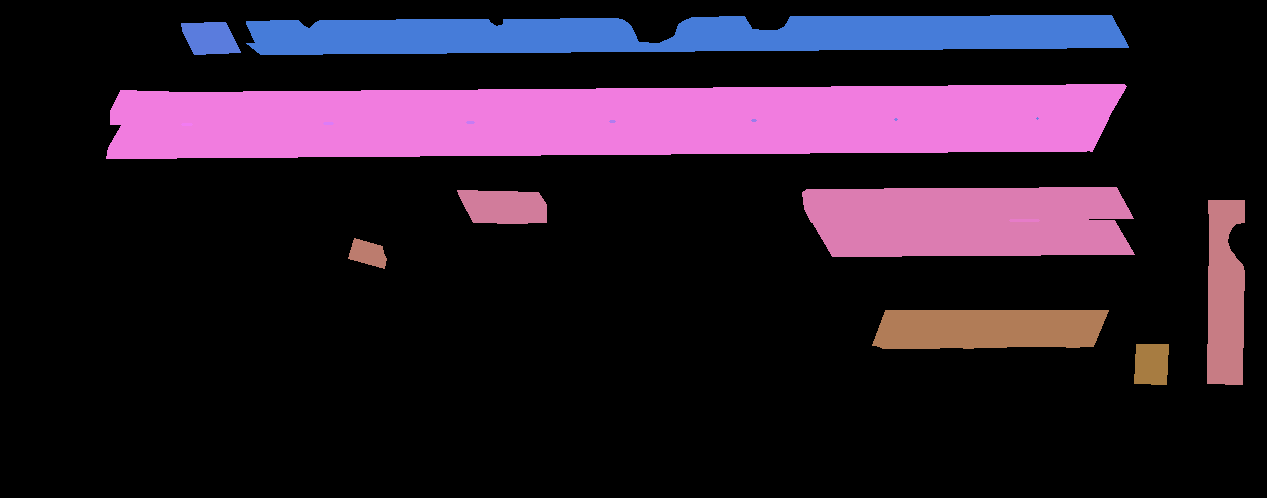parkingspot: (20, 38, 1267, 383), (110, 84, 1126, 124), (106, 118, 1108, 158), (246, 15, 1128, 54), (812, 220, 1134, 256), (802, 187, 1133, 222), (872, 310, 1108, 348), (1207, 200, 1244, 384), (26, 415, 80, 498), (457, 190, 546, 223), (181, 22, 240, 54), (70, 140, 87, 220), (1134, 344, 1168, 384), (348, 238, 386, 268)
